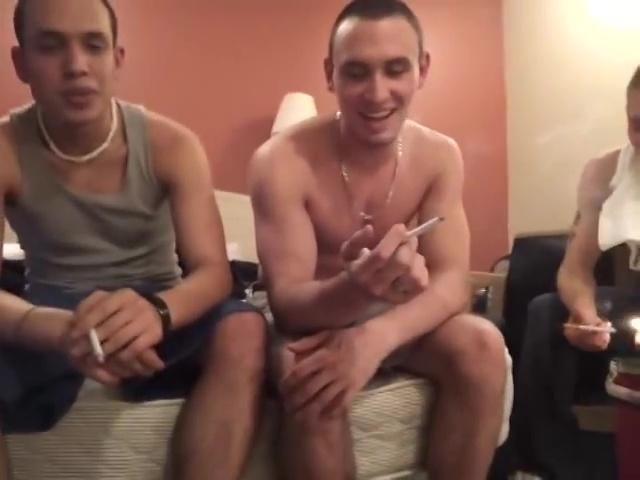cigarette: (400, 212, 448, 245), (558, 317, 622, 337), (90, 322, 107, 365)
